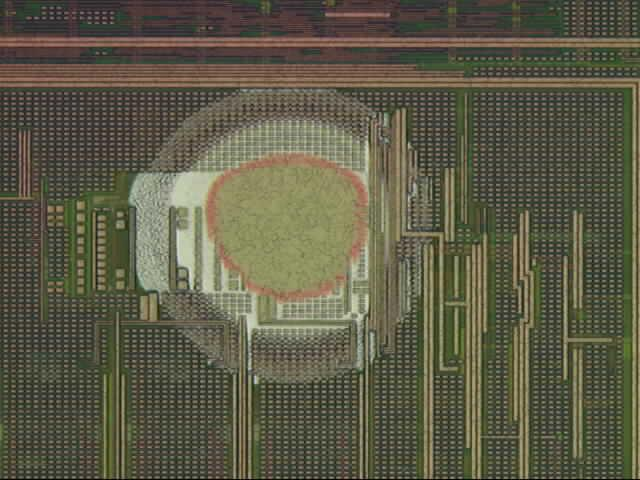BLOCK ETCH: (116, 83, 441, 385)
